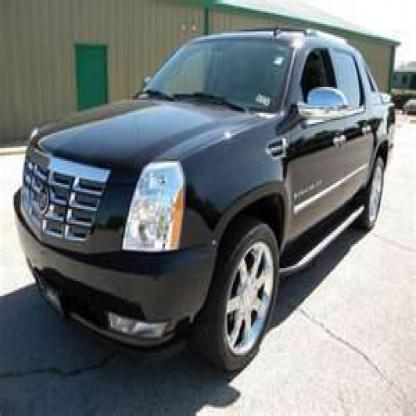Vehicle: (13, 20, 402, 370)
